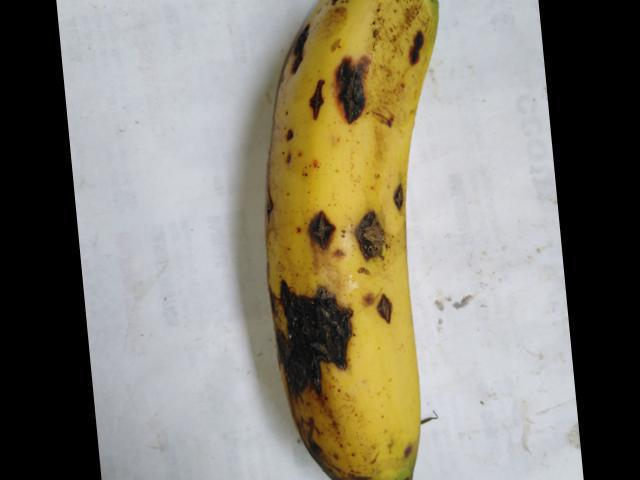rotten: (255, 277, 371, 406), (305, 57, 380, 131), (266, 13, 327, 79), (295, 194, 345, 263), (392, 11, 437, 87), (344, 201, 396, 263), (351, 283, 406, 337)
